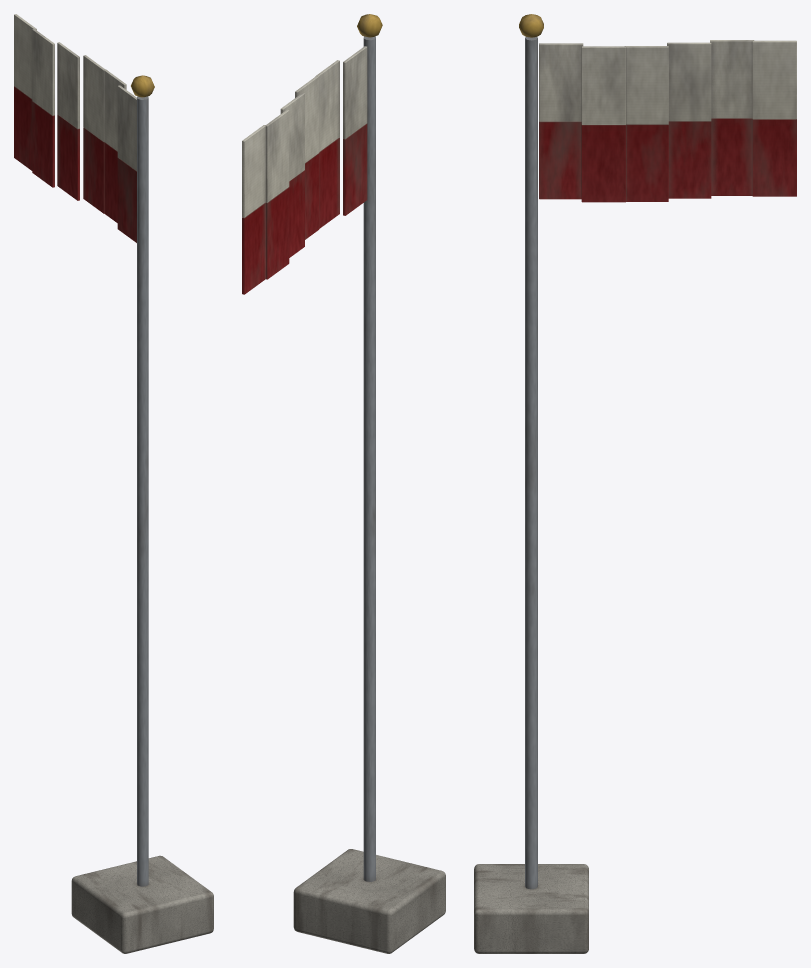
The model's file is kom_maszt.glb.
3 views of the same model, side by side, from view 1: azimuth 30°, elevation 25°; view 2: azimuth 150°, elevation 25°; view 3: azimuth 270°, elevation 25° (orthographic). The views are drawn at different scales.
Visible parts, largest first — view 1: Maszt; view 2: Maszt; view 3: Maszt.
Part boxes in pixels (<box>): Maszt: <box>14,14,213,953</box>; Maszt: <box>242,14,445,953</box>; Maszt: <box>474,14,796,953</box>.
Size of the model in its own units: 0.7 by 6.16 by 1.97.
1 material, 1 textured.
